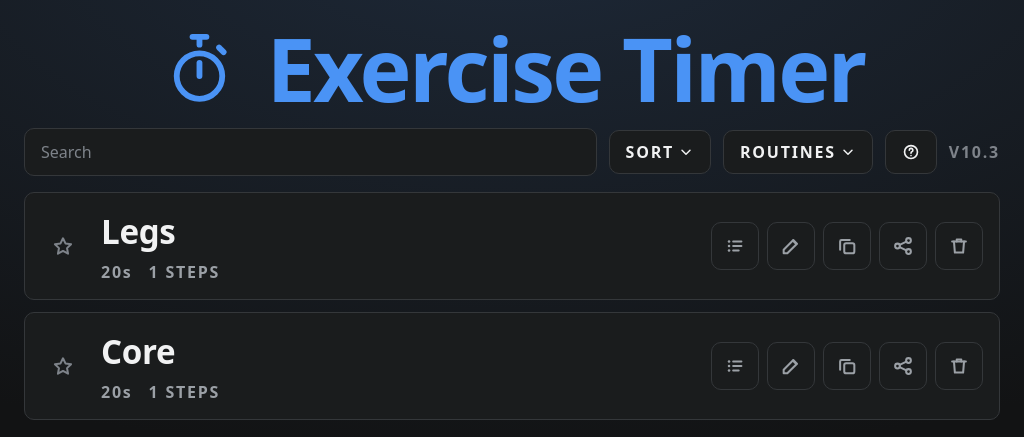
Test: LibraryScreen › filters by name as you type
In the search field named "Search routines": (310, 152) x1=24 y1=128 x2=597 y2=176, type "cor"
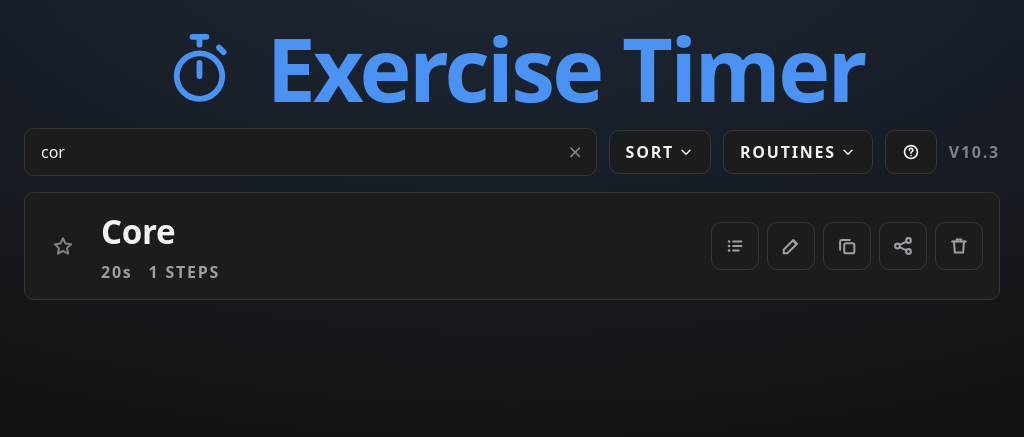
Expected: the heading "Core" is shown, x1=101 y1=209 x2=175 y2=254
Result: the heading "Legs" is gone
